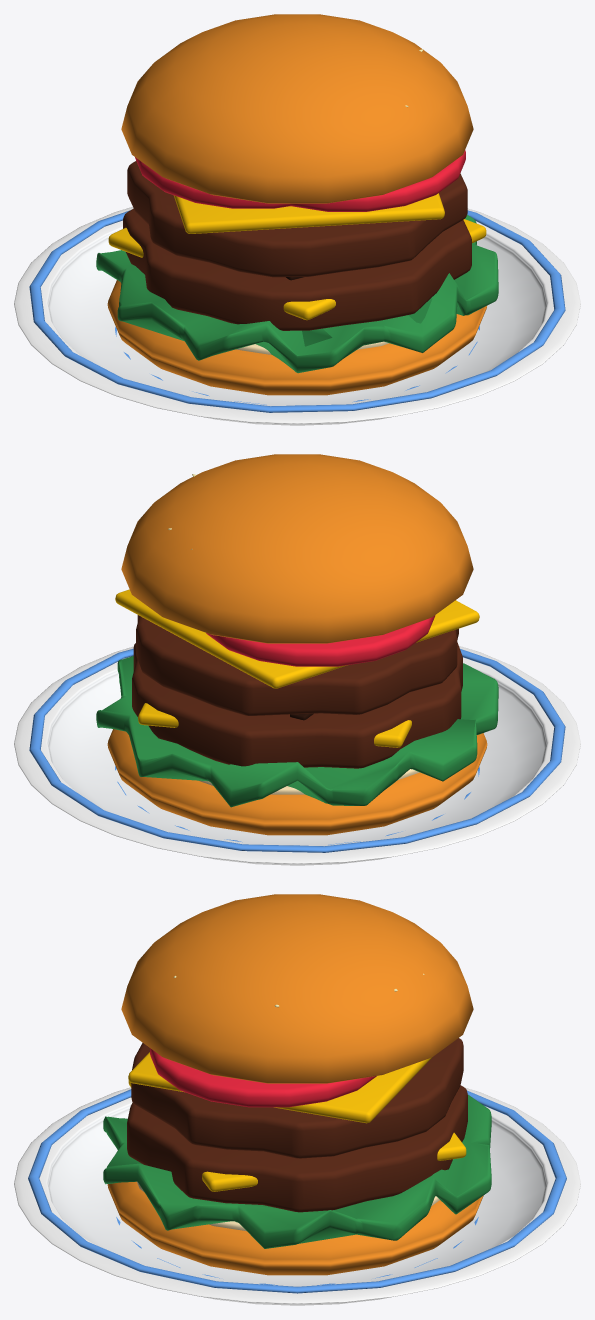
The model's file is burger-double.glb.
3 renders of one model, top to bottom at view 1: azimuth 30°, elevation 25°; view 2: azimuth 150°, elevation 25°; view 3: azimuth 270°, elevation 25°, orthographic.
Visible parts, largest first — view 1: PlateBody; view 2: PlateBody; view 3: PlateBody.
Boxes of the visible parts, x1,y1,x2,y2 form: PlateBody: (14, 14, 580, 425); PlateBody: (14, 454, 580, 865); PlateBody: (14, 894, 580, 1305).
Bounding box in the file's own units: 0.6919 × 0.4174 × 0.6919.
